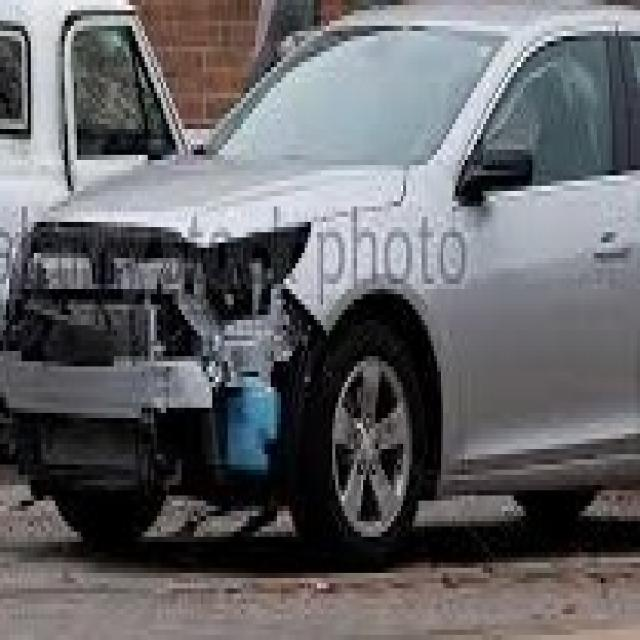moderate: (1, 154, 358, 546)
